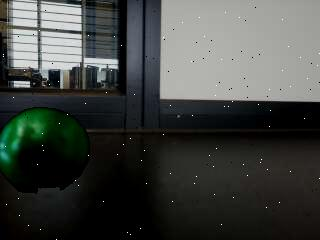Lime: (0, 107, 91, 196)
